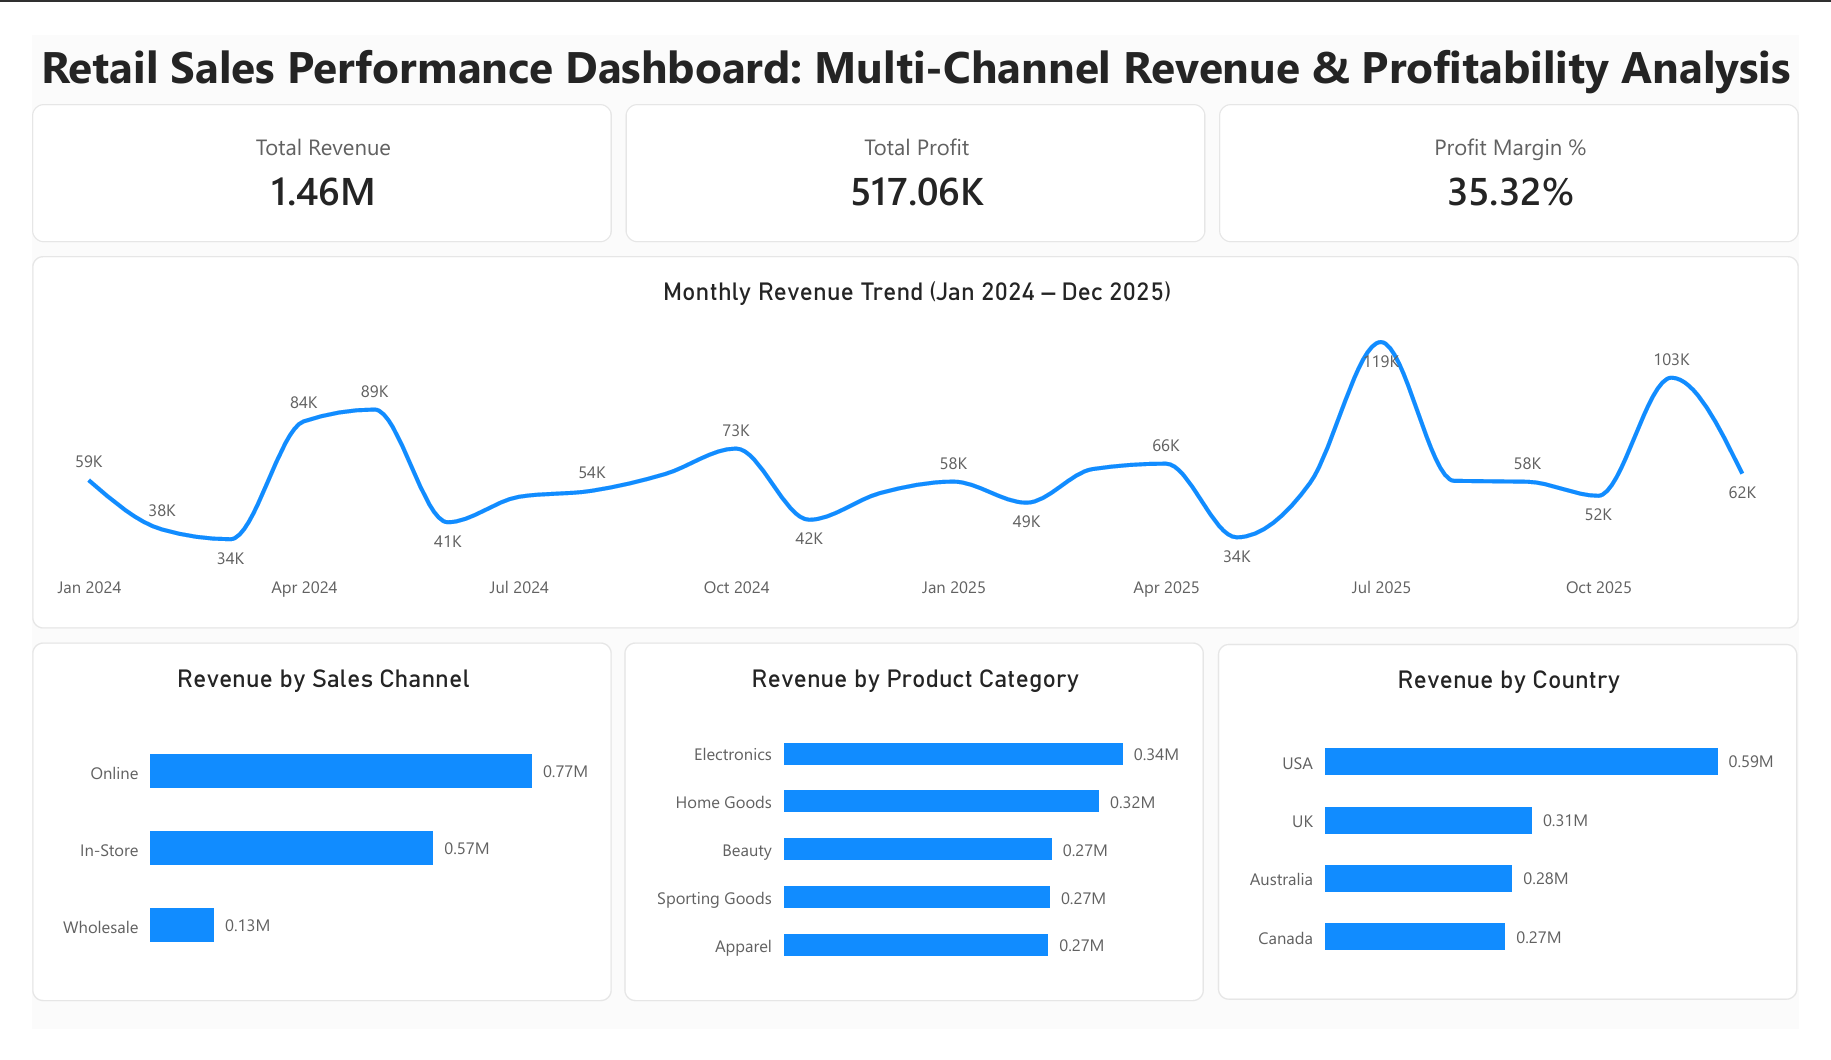

What the dashboard file says about the page in this screenshot:
{"tool":"powerbi","page":{"name":"Page 1","canvas":[1280,720],"ordinal":0},"visuals":[{"type":"cardVisual","fields":{"Data":["FactSales.Total Revenue"]},"box":[0,50,420,100],"z":0},{"type":"cardVisual","fields":{"Data":["FactSales.Total Profit"]},"box":[430,50,420,100],"z":1000},{"type":"cardVisual","fields":{"Data":["FactSales.Profit Margin %"]},"box":[860,50,420,100],"z":2000},{"type":"clusteredBarChart","title":"Revenue by Sales Channel","fields":{"Category":["FactSales.orders.Channel"],"Y":["FactSales.Total Revenue"]},"box":[0,440,420,260],"z":3000},{"type":"clusteredBarChart","title":"Revenue by Product Category","fields":{"Category":["FactSales.Products.Category"],"Y":["FactSales.Total Revenue"]},"box":[429.5,440,420,260],"z":4000},{"type":"lineChart","title":"Monthly Revenue Trend (Jan 2024 – Dec 2025)","fields":{"Y":["FactSales.Total Revenue"],"Category":["FactSales.orders.OrderDate.Variation.Date Hierarchy.Year","FactSales.orders.OrderDate.Variation.Date Hierarchy.Month"]},"box":[0,160.3,1280,270],"z":5000},{"type":"textbox","box":[0,0,1280,50],"z":6000},{"type":"clusteredBarChart","title":"Revenue by Country","fields":{"Y":["FactSales.Total Revenue"],"Category":["stores.Country"]},"box":[859,440.6,420,258.7],"z":7000}]}

Visuals, with their boxes in screenshot pixels (x1, y1, x2, y2), scaled from the page's 1280x720 canvas onto the 1831x1060 screenshot:
cardVisual - FactSales.Total Revenue: bbox(0, 74, 601, 221)
cardVisual - FactSales.Total Profit: bbox(615, 74, 1216, 221)
cardVisual - FactSales.Profit Margin %: bbox(1230, 74, 1830, 221)
"Revenue by Sales Channel" clusteredBarChart: bbox(0, 648, 601, 1031)
"Revenue by Product Category" clusteredBarChart: bbox(614, 648, 1215, 1031)
"Monthly Revenue Trend (Jan 2024 – Dec 2025)" lineChart: bbox(0, 236, 1830, 633)
textbox: bbox(0, 0, 1830, 74)
"Revenue by Country" clusteredBarChart: bbox(1229, 649, 1830, 1030)
